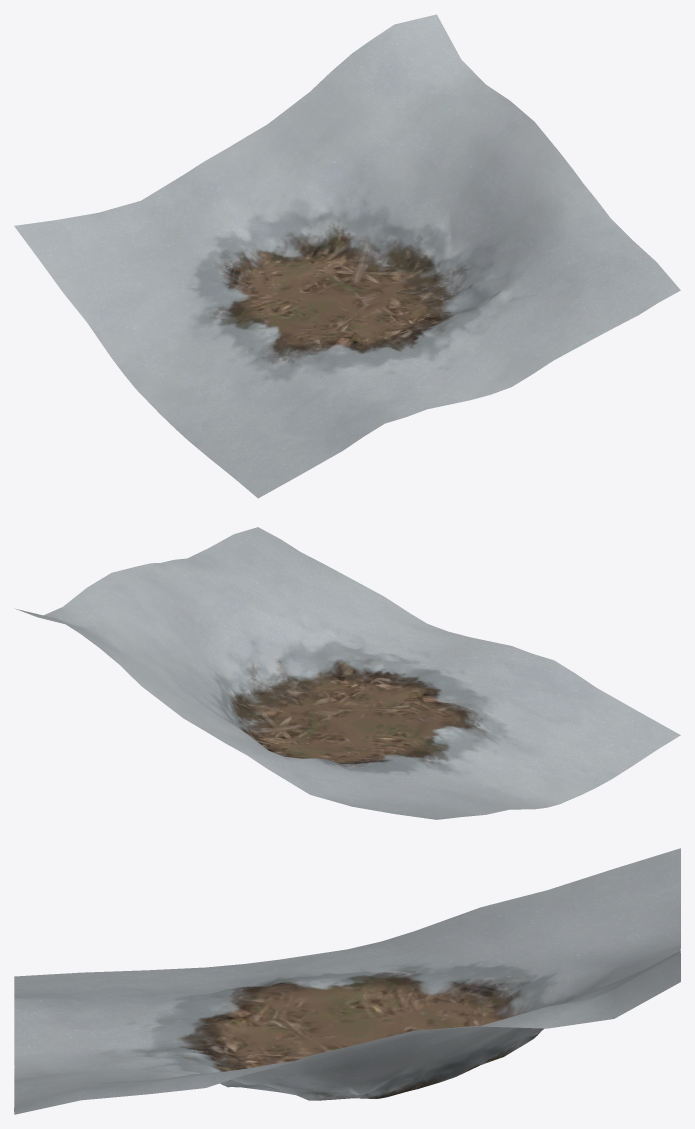
Rendered from Ground2.fbx.
3 renders of one model, top to bottom at view 1: azimuth 30°, elevation 25°; view 2: azimuth 150°, elevation 25°; view 3: azimuth 270°, elevation 25°, orthographic. The views are drawn at different scales.
Visible parts, largest first — view 1: SM_d_102_Collision_BG_03a; view 2: SM_d_102_Collision_BG_03a; view 3: SM_d_102_Collision_BG_03a.
Boxes of the visible parts, x1,y1,x2,y2 form: SM_d_102_Collision_BG_03a: (14,14,680,498); SM_d_102_Collision_BG_03a: (15,527,680,819); SM_d_102_Collision_BG_03a: (14,848,680,1114).
Size of the model in its own units: 9632 by 4403 by 9624.
